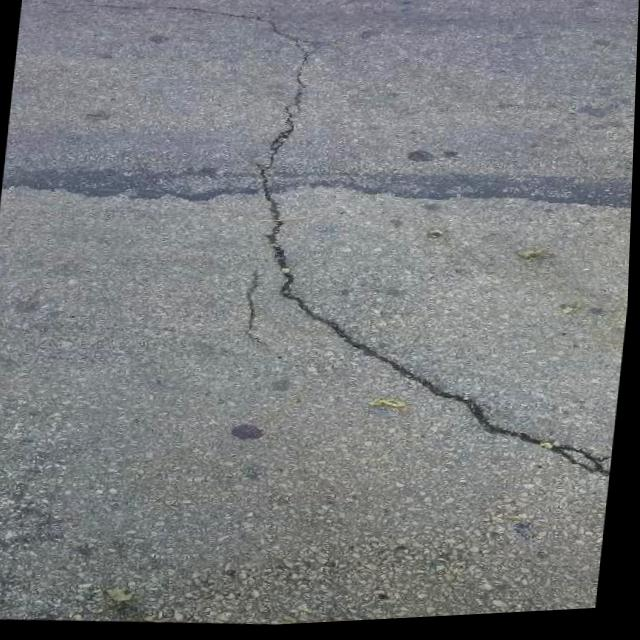Crack: (26, 0, 640, 509)
